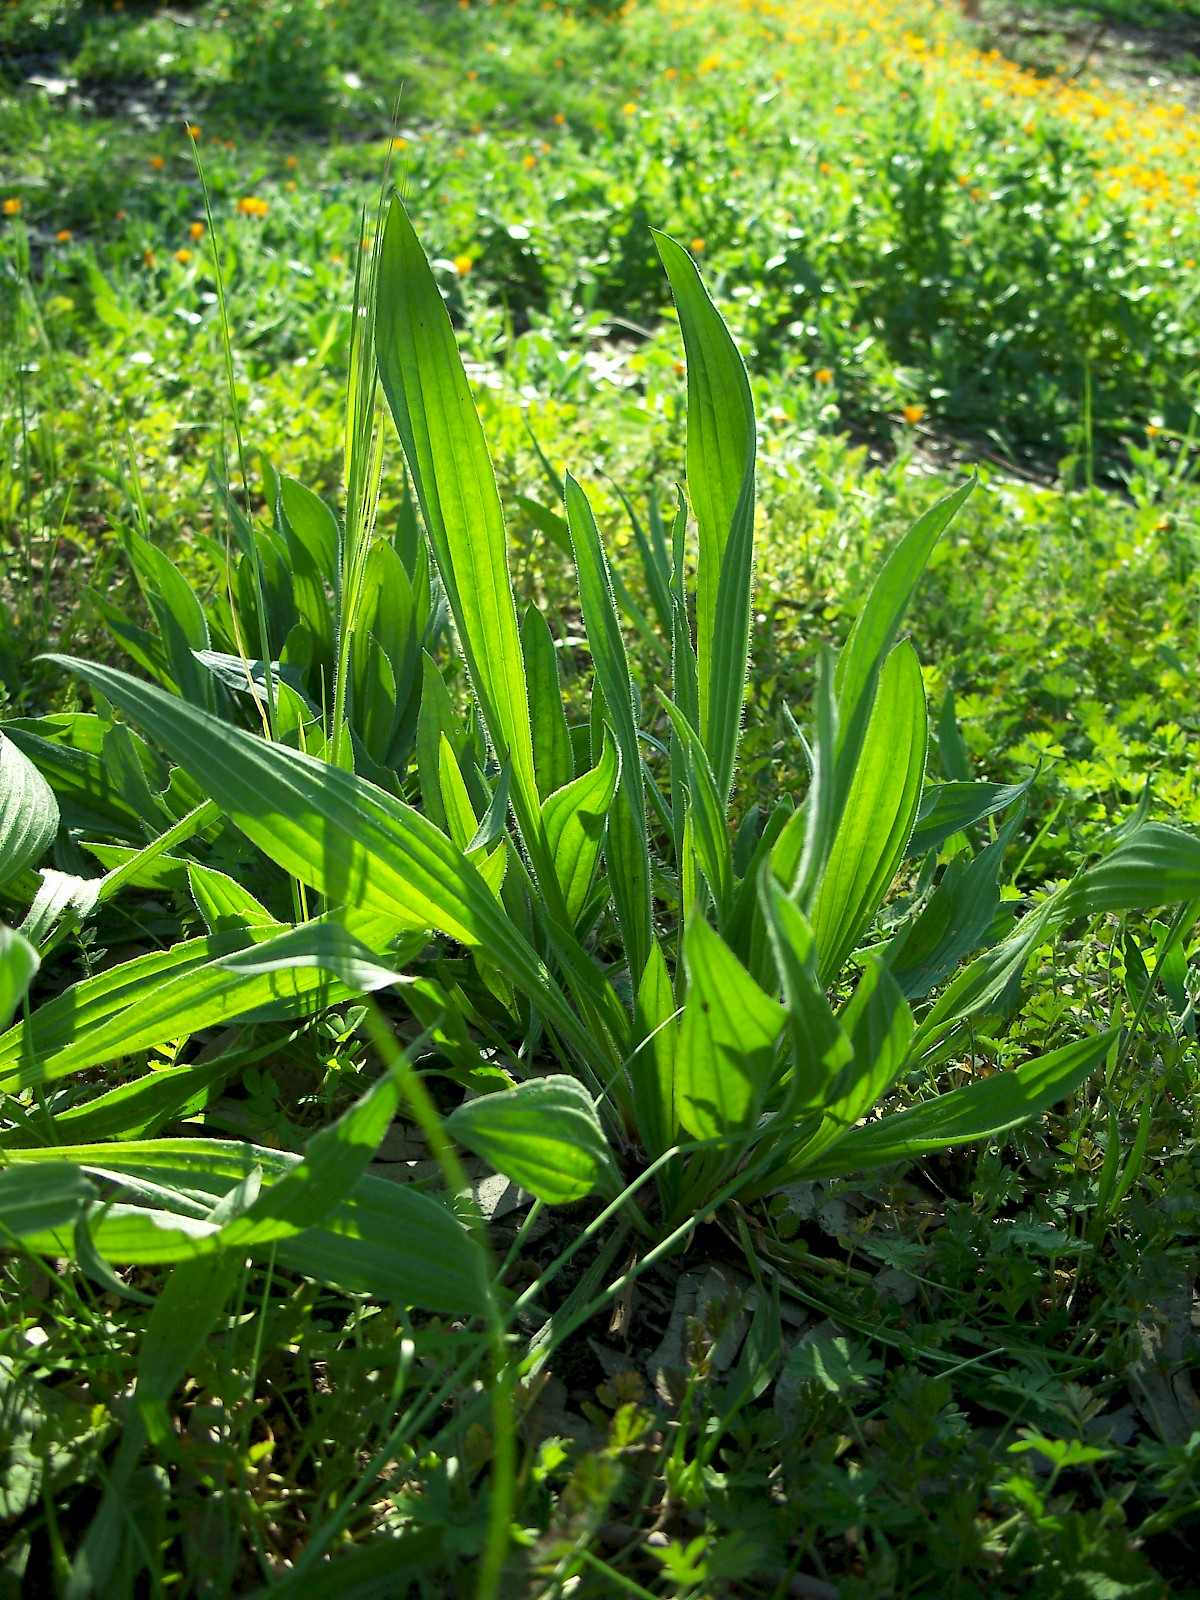buckhorn plantain: (118, 173, 961, 1318)
